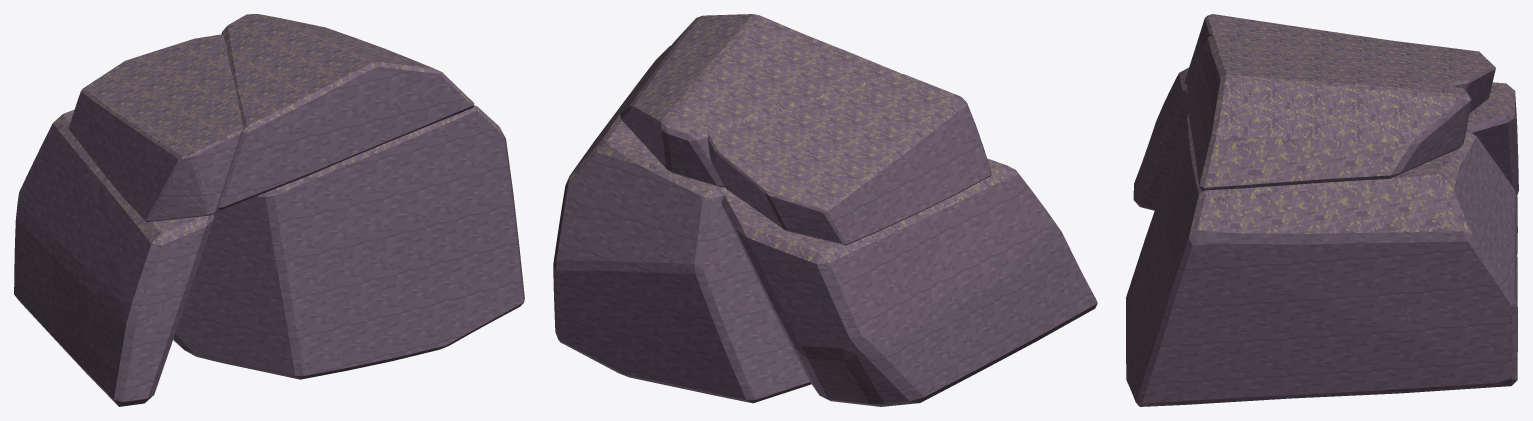
File: A05_Boulder_A.fbx
3 views of the same model, side by side, from view 1: azimuth 30°, elevation 25°; view 2: azimuth 150°, elevation 25°; view 3: azimuth 270°, elevation 25° (orthographic). The views are drawn at different scales.
Visible parts, largest first — view 1: A05A_rock_2, A05A_rock_0, A05A_rock_3, A05A_rock_1; view 2: A05A_rock_0, A05A_rock_2, A05A_rock_1, A05A_rock_3; view 3: A05A_rock_2, A05A_rock_3, A05A_rock_1, A05A_rock_0.
Part boxes in pixels (x1,y1,x2,y2): A05A_rock_2: (173, 105, 524, 379); A05A_rock_0: (14, 109, 213, 406); A05A_rock_3: (218, 14, 474, 210); A05A_rock_1: (68, 34, 242, 222); A05A_rock_0: (721, 158, 1097, 406); A05A_rock_2: (553, 45, 811, 403); A05A_rock_1: (707, 74, 991, 245); A05A_rock_3: (620, 14, 902, 187); A05A_rock_2: (1126, 114, 1517, 406); A05A_rock_3: (1187, 34, 1471, 191); A05A_rock_1: (1184, 14, 1495, 113); A05A_rock_0: (1133, 67, 1518, 210).
Size of the model in its own units: 3.17 by 1.92 by 2.32.
